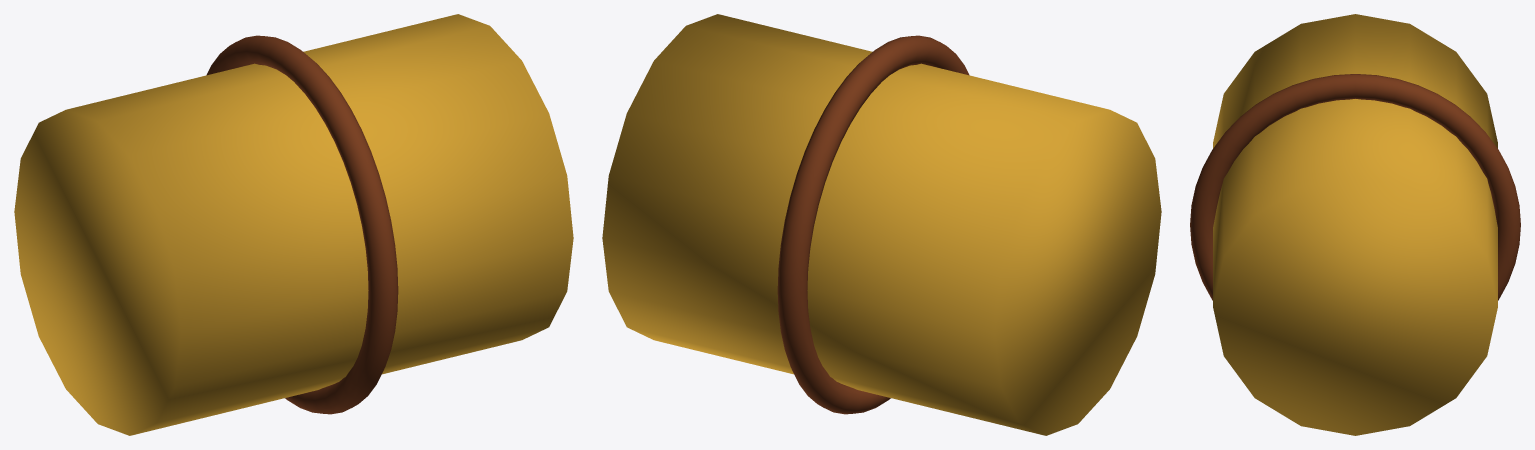
Rendered from hay.glb.
3 renders of one model, left to right at view 1: azimuth 30°, elevation 25°; view 2: azimuth 150°, elevation 25°; view 3: azimuth 270°, elevation 25°, orthographic. The views are drawn at different scales.
Visible parts, largest first — view 1: Hay; view 2: Hay; view 3: Hay.
Boxes of the visible parts, <box> form: Hay: <box>14,14,573,435</box>; Hay: <box>602,14,1161,435</box>; Hay: <box>1190,14,1520,435</box>.
Bounding box in the file's own units: 0.76 × 0.65 × 0.65.
